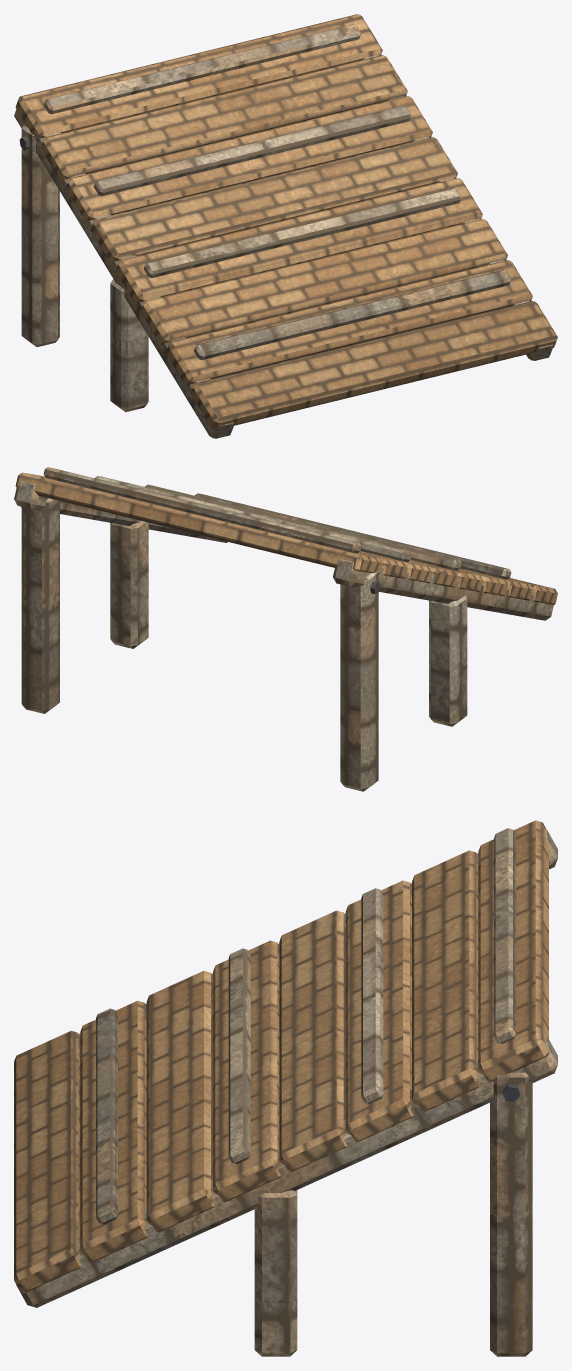
The model's file is rampa.glb.
3 views of the same model, one above another, from view 1: azimuth 30°, elevation 25°; view 2: azimuth 150°, elevation 25°; view 3: azimuth 270°, elevation 25° (orthographic). The views are drawn at different scales.
Parts seen in each view (by area): view 1: rampa; view 2: rampa; view 3: rampa.
Part boxes in pixels (box(x1,y1,x2,y2)): rampa: box(14, 14, 557, 438); rampa: box(14, 467, 557, 791); rampa: box(14, 820, 557, 1356).
Bounding box in the file's own units: 3.07 × 2 × 3.08.
1 material, 1 textured.
